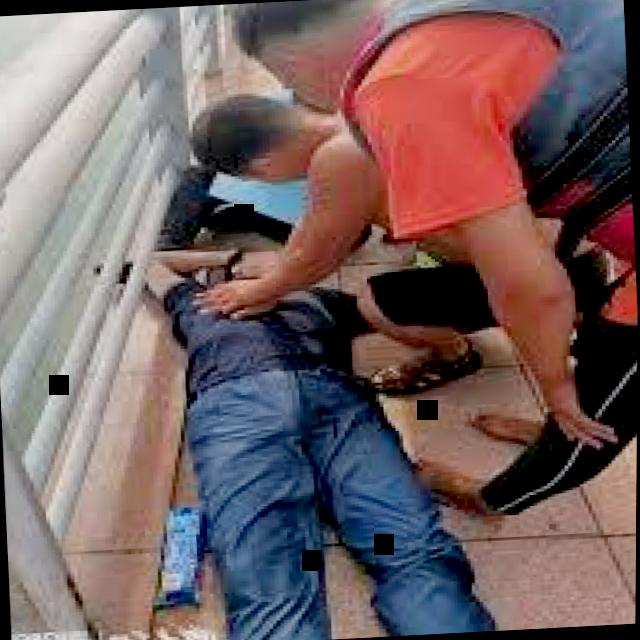Fall-Detected: (116, 159, 528, 640)
